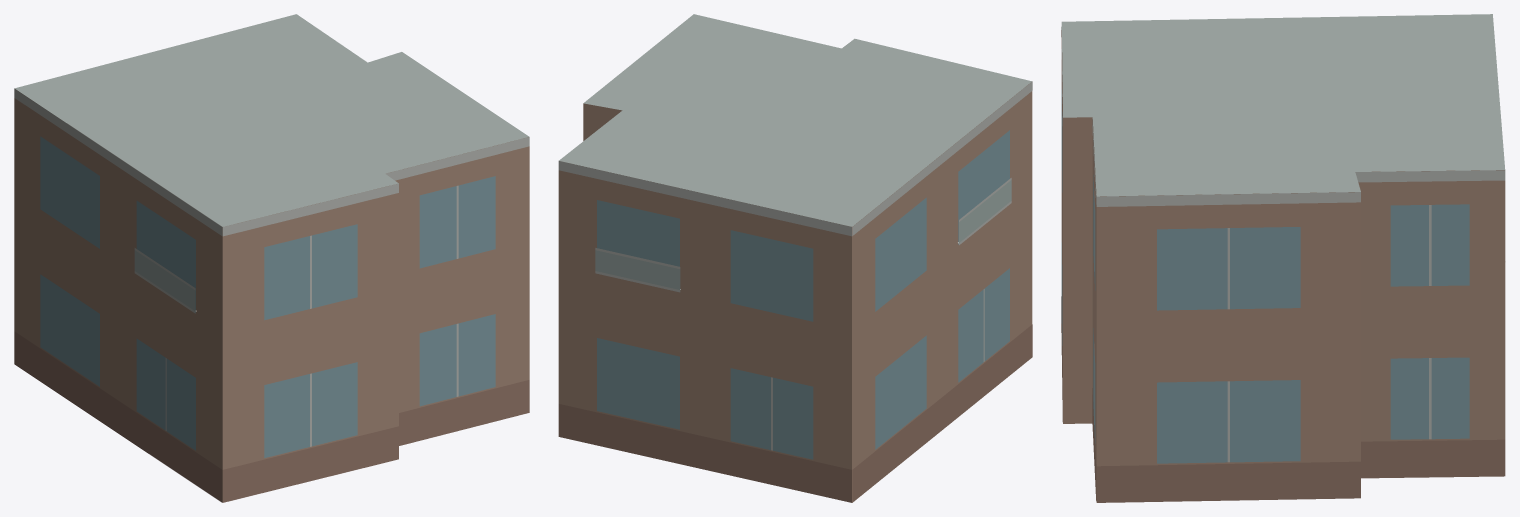
File: survey-upis-32505803.glb
3 renders of one model, left to right at view 1: azimuth 30°, elevation 25°; view 2: azimuth 150°, elevation 25°; view 3: azimuth 270°, elevation 25°, orthographic. The views are drawn at different scales.
Visible parts, largest first — view 1: survey-upis-32505803.tmp; view 2: survey-upis-32505803.tmp; view 3: survey-upis-32505803.tmp.
Part boxes in pixels (left/top/right/bottom): survey-upis-32505803.tmp: left=14, top=14, right=529, bottom=502; survey-upis-32505803.tmp: left=558, top=14, right=1032, bottom=502; survey-upis-32505803.tmp: left=1061, top=14, right=1505, bottom=502.
Bounding box in the file's own units: 9.08 × 7.1 × 9.33.
